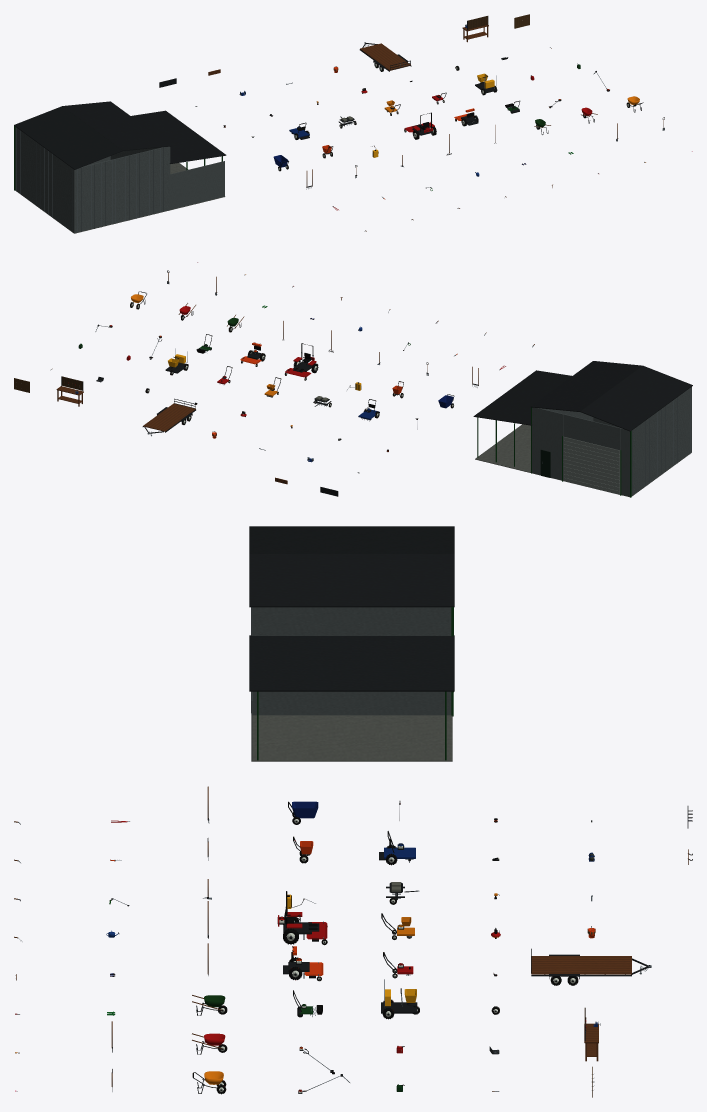
Rendered from PhaseA_All58.gltf.
3 renders of one model, top to bottom at view 1: azimuth 30°, elevation 25°; view 2: azimuth 150°, elevation 25°; view 3: azimuth 270°, elevation 25°, orthographic. The views are drawn at different scales.
Parts seen in each view (by area): view 1: EquipmentYard__Body, EquipmentTrailer__Body; view 2: EquipmentYard__Body, EquipmentTrailer__Body, CommercialZeroTurn__Body; view 3: EquipmentYard__Body, EquipmentTrailer__Body, CommercialZeroTurn__Body.
Boxes of the visible parts, x1,y1,x2,y2 form: EquipmentYard__Body: (14,101,226,233); EquipmentTrailer__Body: (359,42,411,71); EquipmentYard__Body: (473,361,692,497); EquipmentTrailer__Body: (142,398,195,436); CommercialZeroTurn__Body: (285,343,316,378); EquipmentYard__Body: (249,526,454,761); EquipmentTrailer__Body: (531,948,651,979); CommercialZeroTurn__Body: (277,891,327,942).
Bounding box in the file's own units: 45.43 × 6.71 × 28.32.
1 material, 1 textured.
